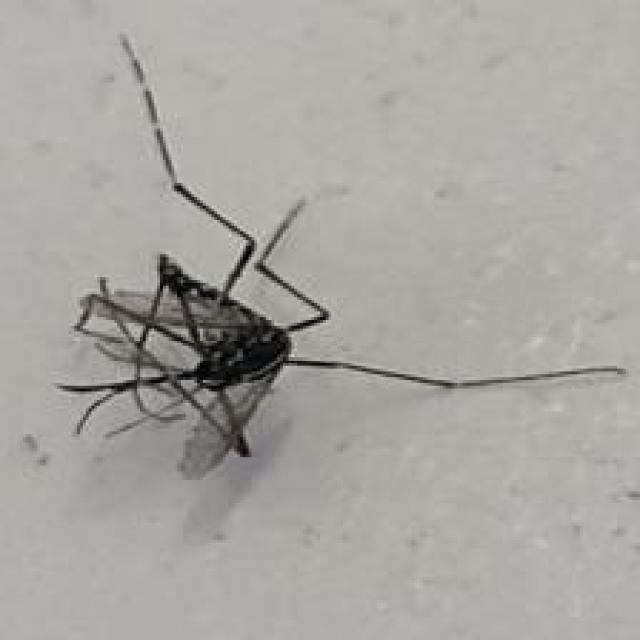Aedes albopictus: (53, 30, 627, 481)
